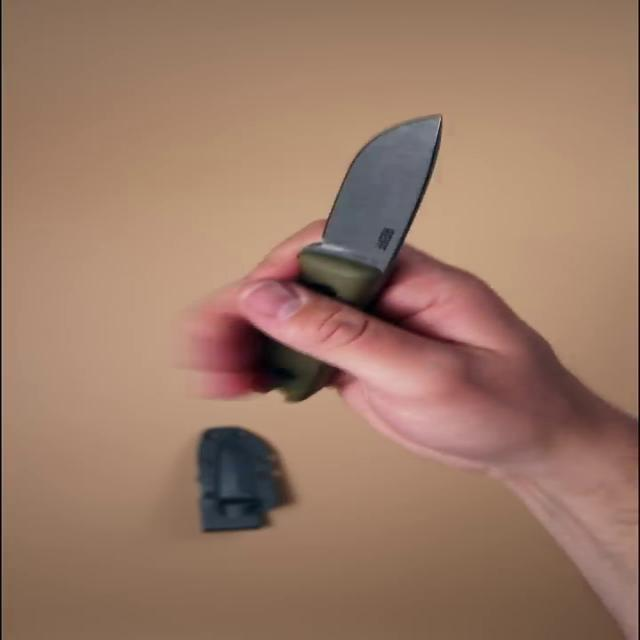Knife: (186, 102, 454, 472)
